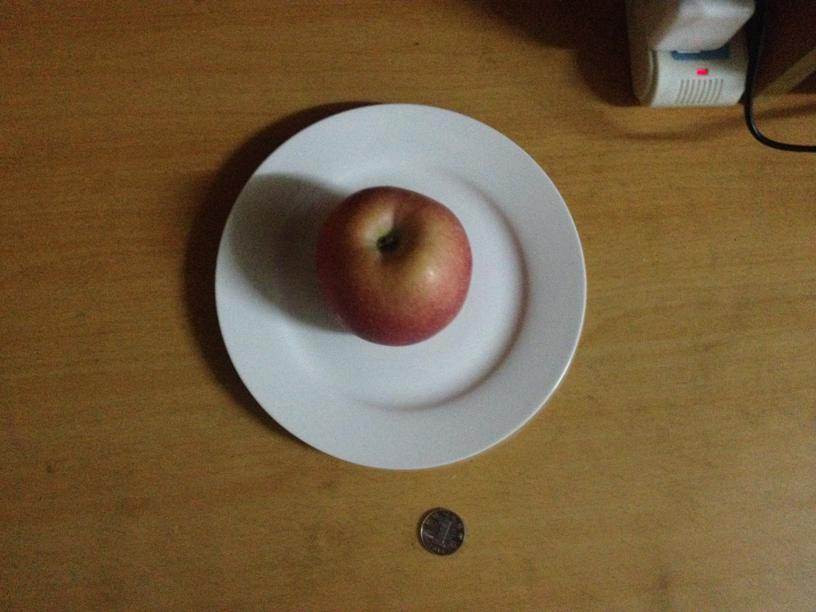apple: (321, 186, 472, 347)
coin: (418, 505, 464, 556)
